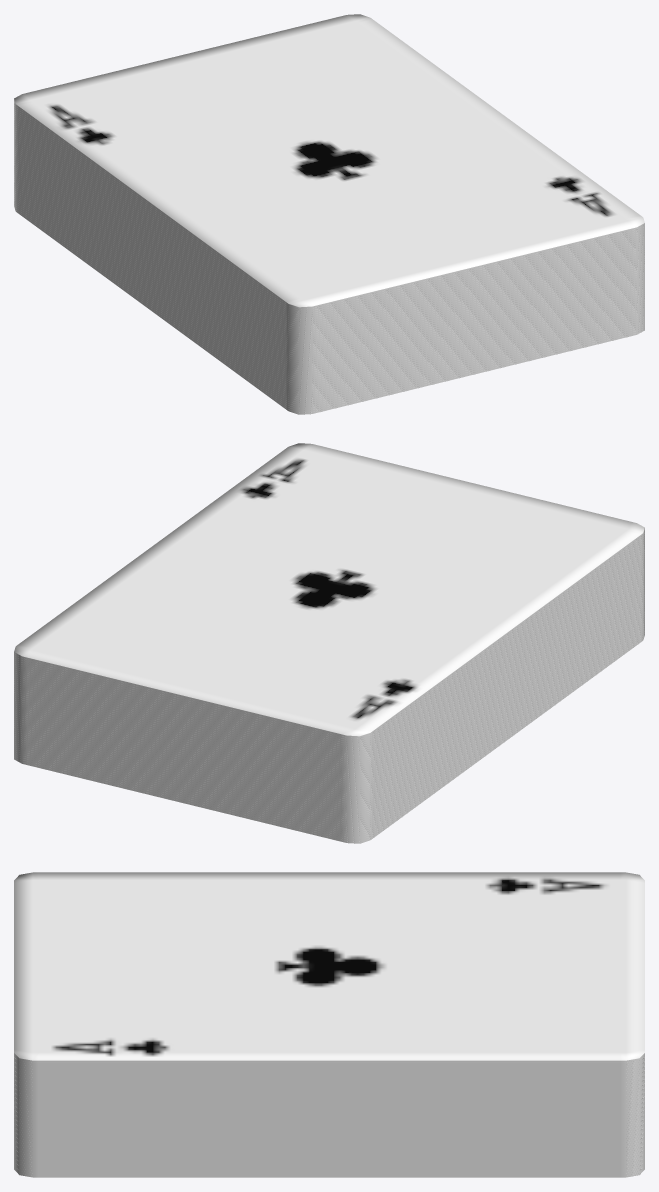
The model's file is Playing_cards.fbx.
3 views of the same model, one above another, from view 1: azimuth 30°, elevation 25°; view 2: azimuth 150°, elevation 25°; view 3: azimuth 270°, elevation 25° (orthographic). The views are drawn at different scales.
Parts seen in each view (by area): view 1: Group Locator; view 2: Group Locator; view 3: Group Locator.
Part boxes in pixels (box(x1,y1,x2,y2)): Group Locator: box(14, 14, 644, 414); Group Locator: box(14, 443, 644, 843); Group Locator: box(14, 872, 644, 1177).
Size of the model in its own units: 6.36 by 1.84 by 9.01.
